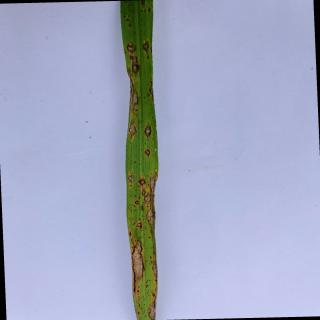Blast: (132, 239, 144, 297), (130, 86, 140, 116), (148, 172, 158, 194), (148, 298, 156, 320), (151, 260, 159, 280), (129, 121, 137, 141), (130, 61, 140, 76), (144, 122, 152, 140), (128, 41, 138, 55), (146, 209, 155, 223), (149, 78, 154, 100), (144, 193, 152, 206), (142, 41, 150, 53), (145, 146, 151, 158), (138, 178, 146, 186), (128, 175, 136, 182), (134, 198, 140, 206), (146, 8, 152, 14), (137, 220, 141, 228), (151, 290, 156, 296), (141, 0, 146, 6), (128, 230, 132, 237), (142, 188, 146, 195), (128, 56, 134, 60)
